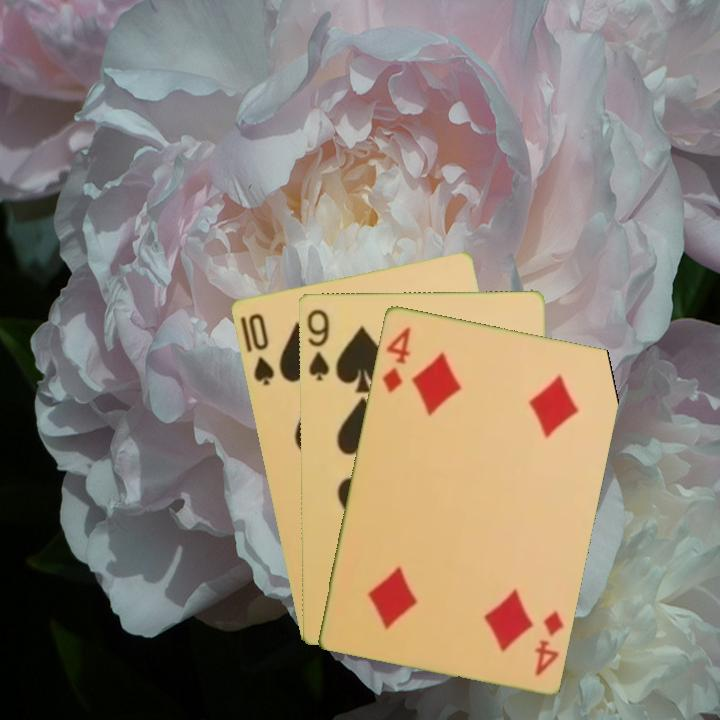10s: (244, 309, 277, 388)
4d: (531, 607, 567, 678), (378, 322, 413, 395)
9s: (303, 305, 332, 383)
